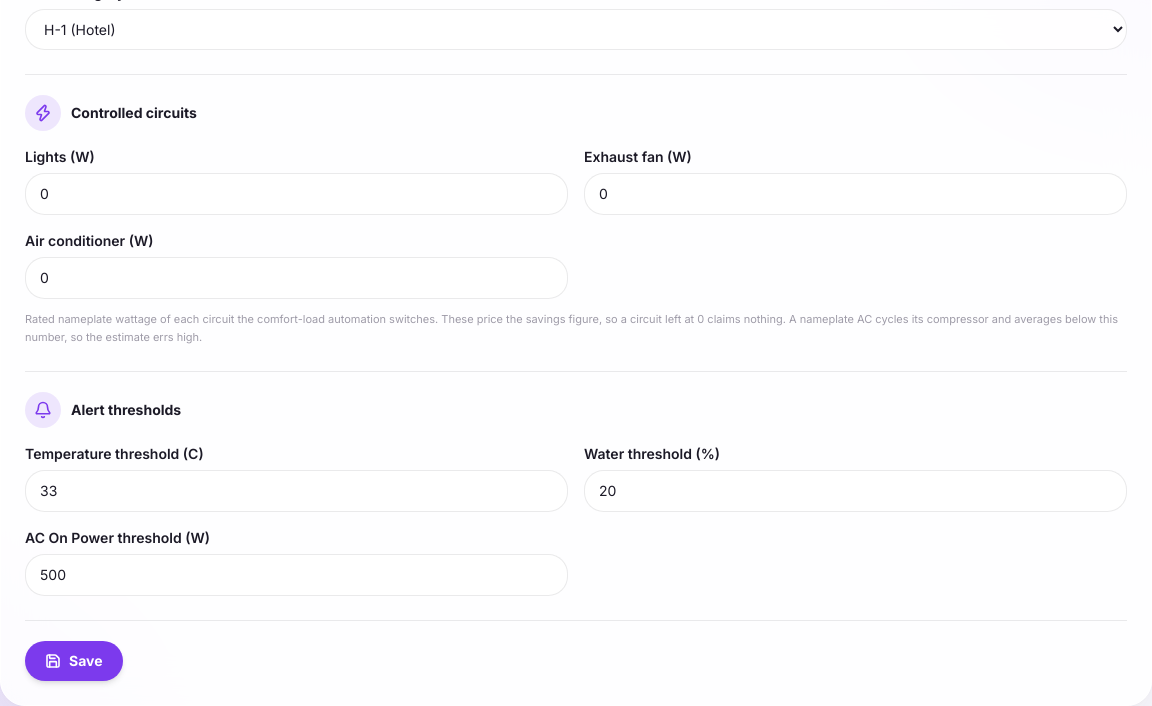
Scenario: AdminPropertySettings (route-scoped, v2 slice 07) › turns Firebase rules denial into an actionable save error
The width and height of the screenshot is (1152, 706).
(page scrolled)
Check: the dropdown labelled "Tariff category" shows "H-1 (Hotel)", box x1=25 y1=9 x2=1127 y2=50
What coordinates should you click on to do the following:
click the button "Save"
I would click on:
 (74, 661)
Its box is x1=25 y1=641 x2=122 y2=681.
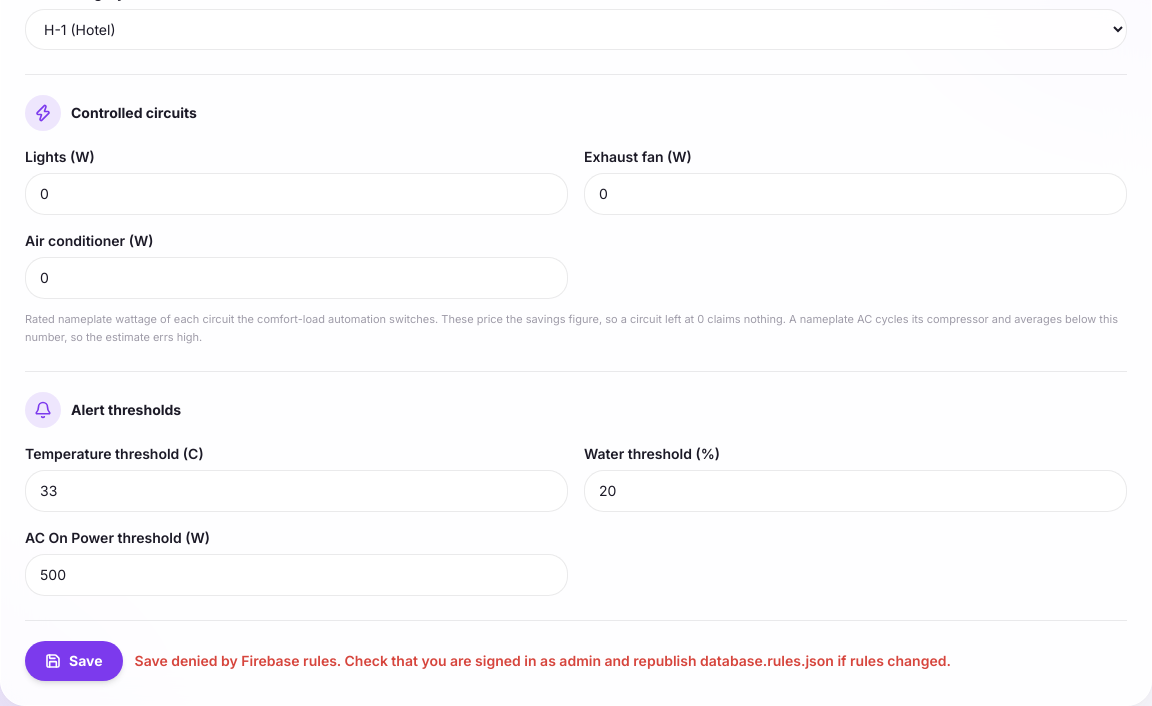
Check: the message shows "Save denied by Firebase rules", box x1=134 y1=652 x2=951 y2=669
Check: the message shows "database.rules.json", box x1=134 y1=652 x2=951 y2=669
